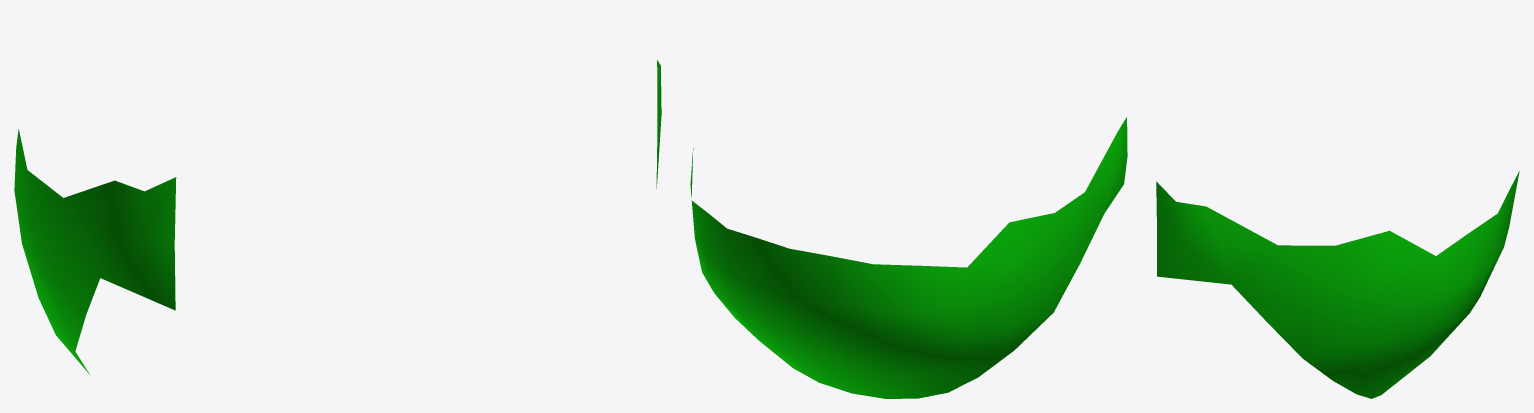
File: Hair2_127.glb
3 views of the same model, side by side, from view 1: azimuth 30°, elevation 25°; view 2: azimuth 150°, elevation 25°; view 3: azimuth 270°, elevation 25° (orthographic). The views are drawn at different scales.
Size of the model in its own units: 54.09 by 36.59 by 44.12.
